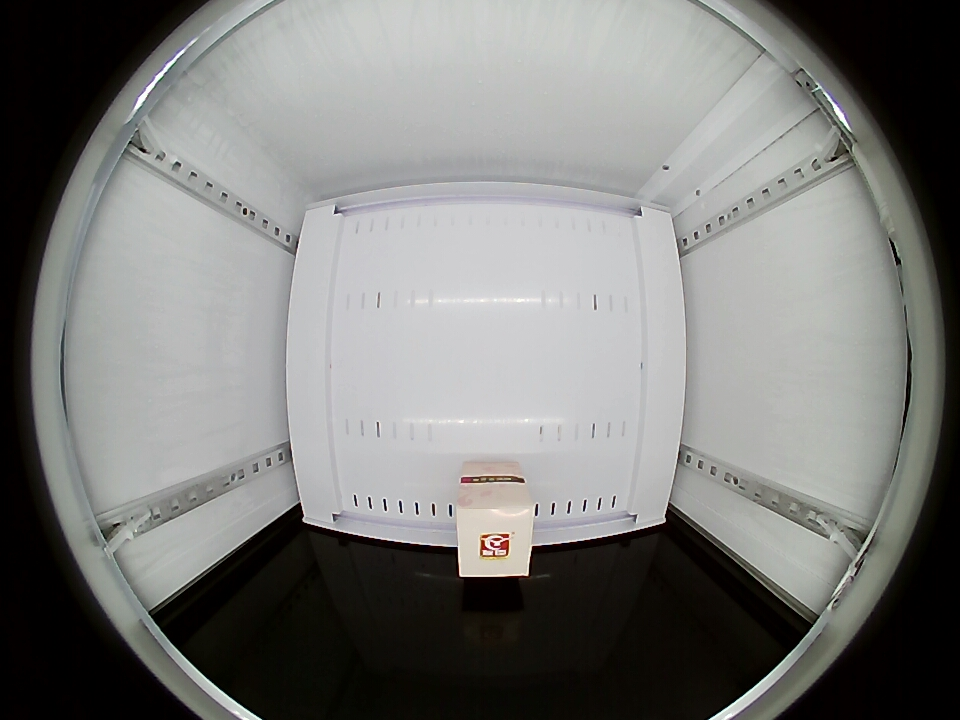rousongbing: (456, 474, 535, 577)
